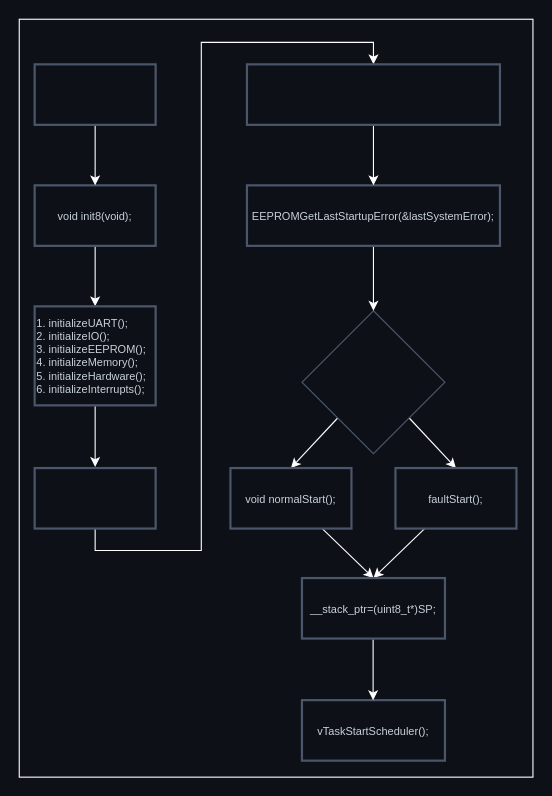
This 552x796 diagram has some shape labels left out. The shapes that lost their labels are listed below. From the top down, each one's box as (x1, y1, x2, y2) in pixels, then its label:
(33, 63, 156, 125): MCU reset
(245, 63, 501, 125): EEPROMUpdateBootups(&bootupsCount);
(301, 310, 445, 454): lastSystemError.confirmed
(33, 466, 156, 529): int main(void);
